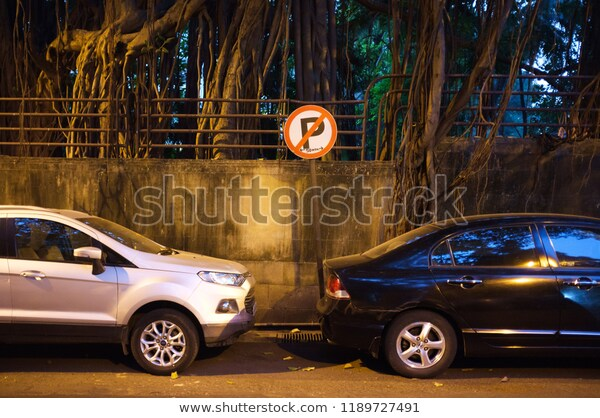car: (322, 209, 599, 372), (2, 201, 253, 379)
